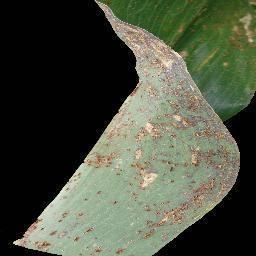Corn_Common_Rust: (133, 132, 243, 243), (134, 36, 229, 132), (19, 210, 95, 240), (94, 0, 134, 54), (99, 91, 133, 145), (79, 149, 132, 178), (229, 0, 255, 54), (12, 241, 127, 253), (51, 171, 79, 195), (135, 18, 158, 36), (201, 22, 225, 31), (178, 22, 186, 34), (111, 198, 121, 207), (186, 0, 200, 6), (81, 195, 89, 203), (94, 189, 103, 196), (176, 4, 183, 11)
